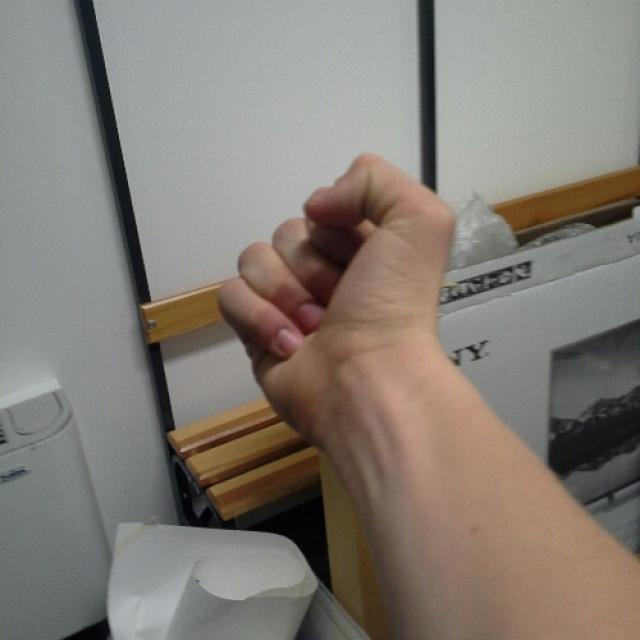fist: (222, 151, 457, 432)
